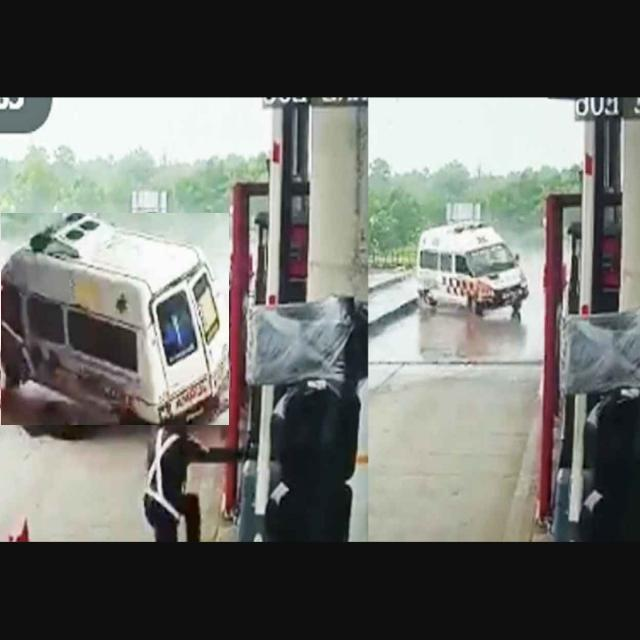emergency: (0, 214, 229, 425), (416, 222, 529, 319)
